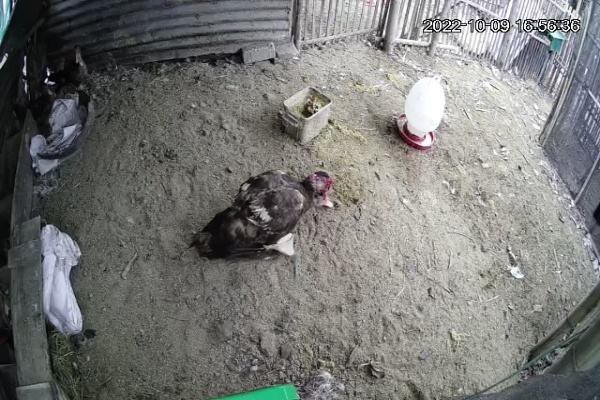Kawin: (184, 160, 340, 266)
